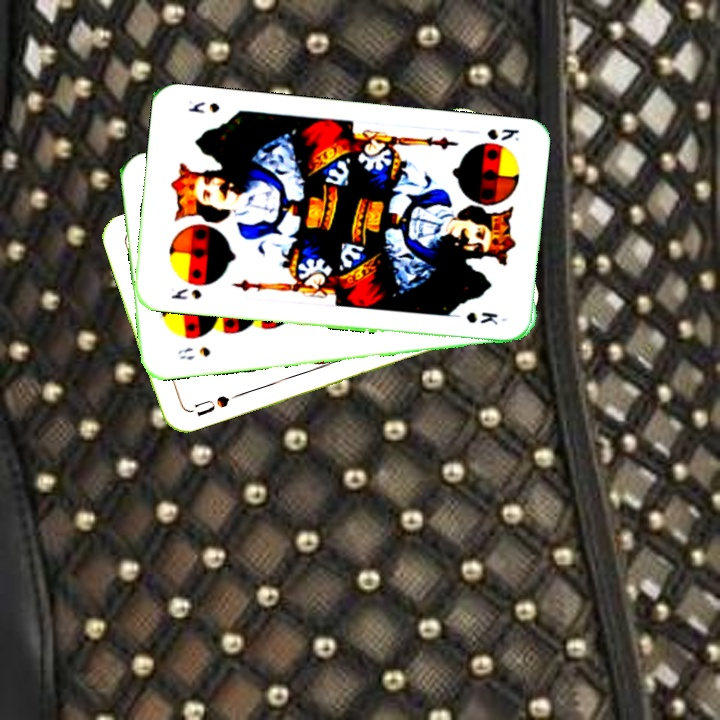S8: (174, 343, 213, 363)
SK: (483, 124, 522, 144), (167, 284, 204, 303)
SU: (183, 389, 241, 419)
